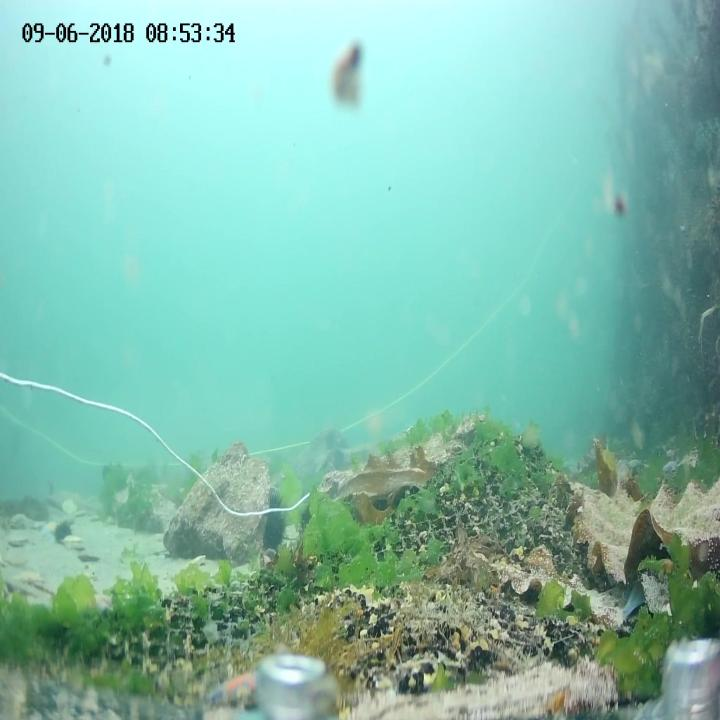echinus: (256, 495, 284, 550), (56, 523, 72, 543)
scallop: (59, 535, 84, 554), (76, 550, 99, 567), (8, 534, 32, 548), (6, 556, 29, 569)
starfish: (207, 670, 265, 712), (77, 586, 116, 622), (9, 510, 34, 532), (17, 570, 47, 588), (37, 518, 59, 537)
